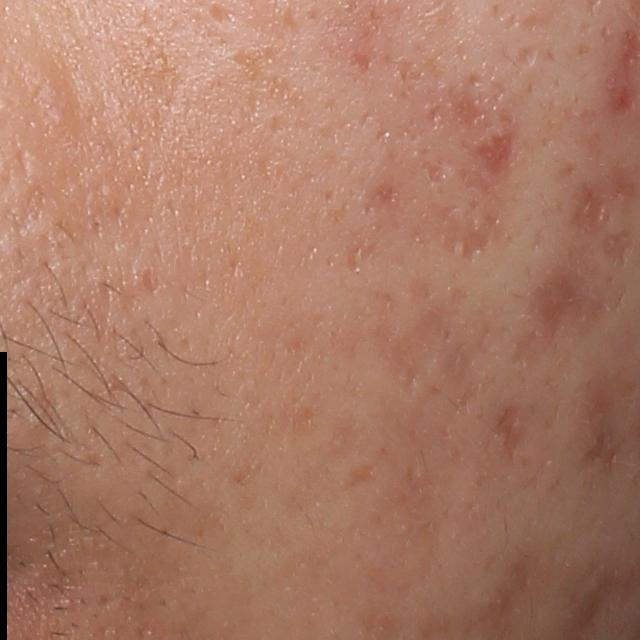atrophic_scar: (369, 290, 483, 414), (492, 399, 525, 462), (459, 215, 498, 265), (359, 178, 408, 213), (600, 229, 636, 270), (419, 160, 454, 185), (516, 43, 540, 72), (350, 49, 376, 75)
